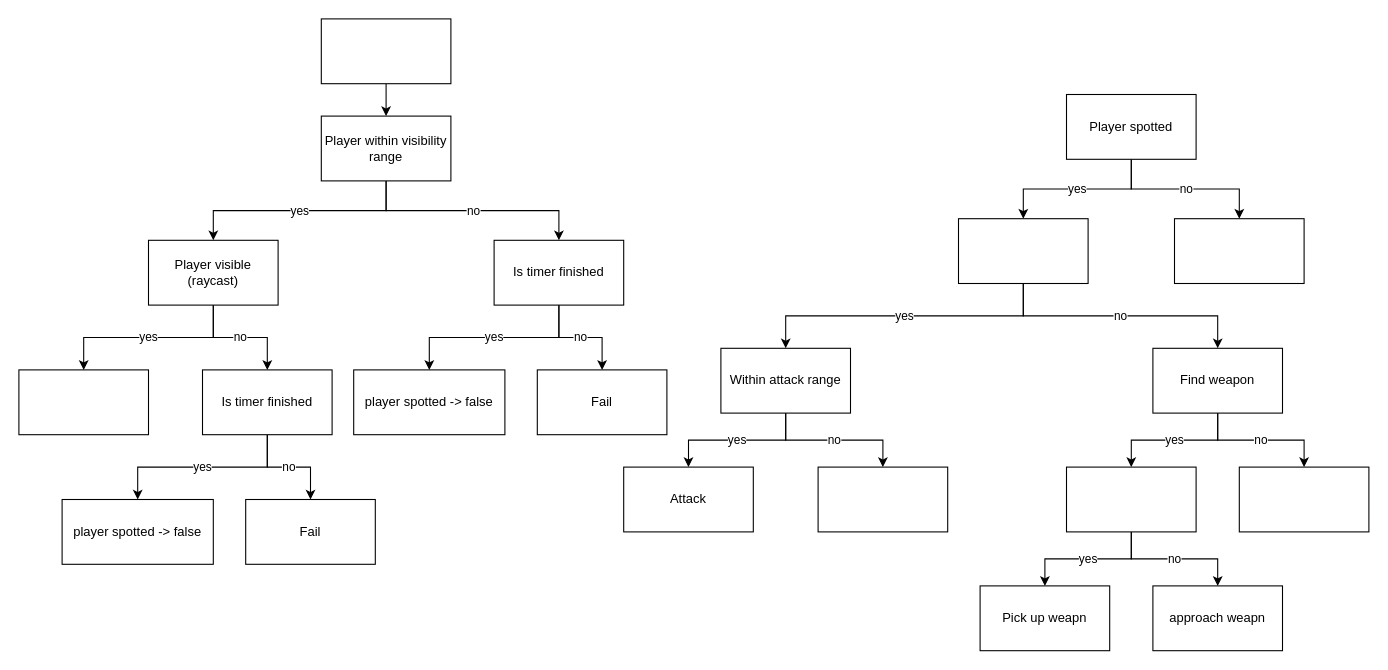
This 1388x670 diagram has some shape labels left out. The shapes that lost their labels are listed below. From the top down, each one's box as (x1, y1, x2, y2) in pixels, then its label:
(320, 18, 451, 84): Update timer
(957, 218, 1088, 284): Has weapon
(1173, 218, 1304, 284): Patrol
(18, 369, 148, 435): reset timer player spotted -> true
(817, 466, 948, 532): Chase
(1065, 466, 1196, 532): Within pickup range (interact range)
(1238, 466, 1369, 532): Run away
